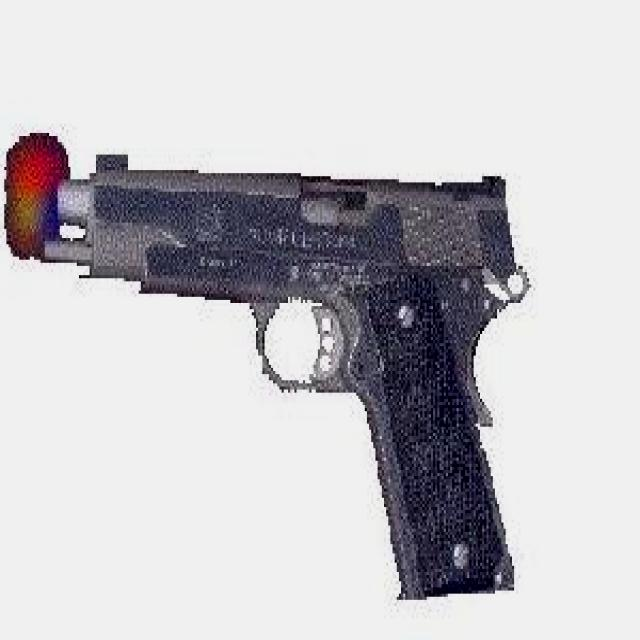pistol: (41, 139, 529, 600)
